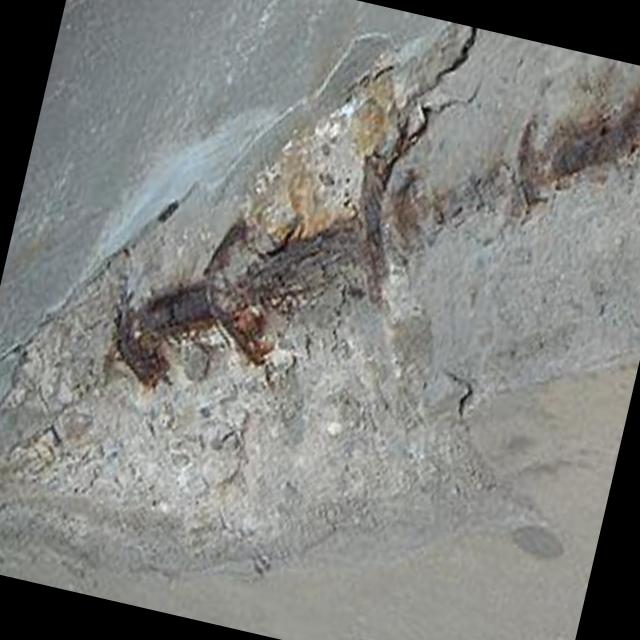spalling: (0, 24, 640, 565)
